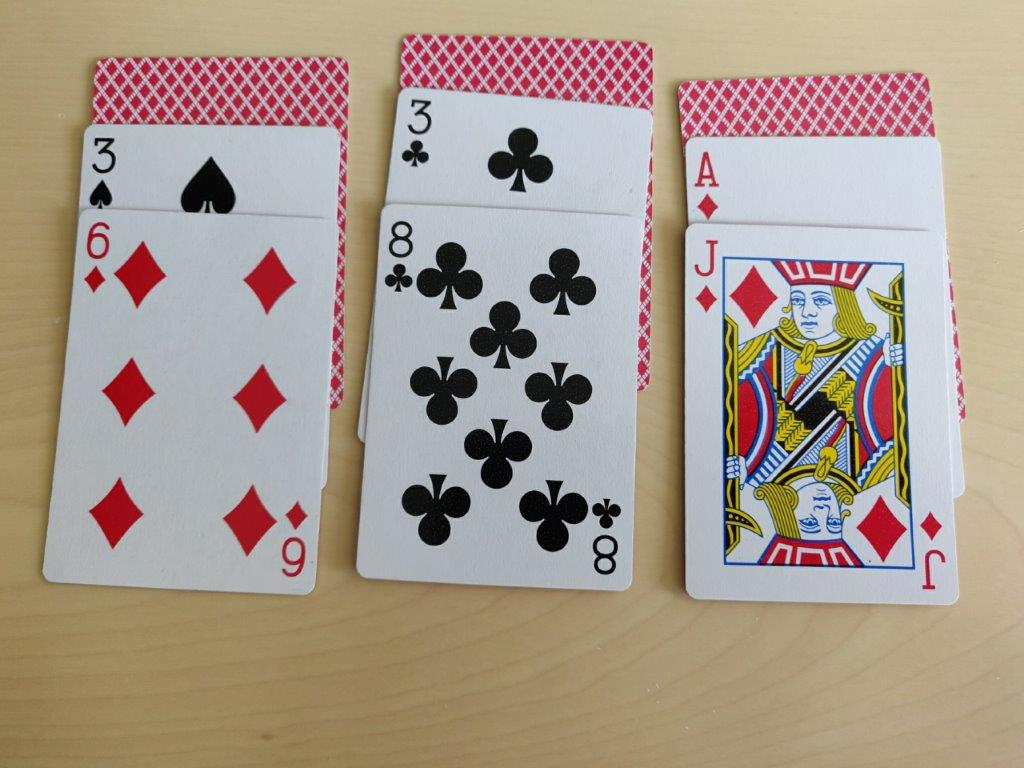3C: (399, 98, 434, 176)
3S: (86, 134, 123, 210)
6D: (78, 216, 115, 301)
8C: (379, 214, 416, 303)
AD: (688, 145, 723, 224)
BACK: (398, 29, 655, 103), (91, 53, 354, 123), (679, 67, 937, 138)
JD: (691, 234, 724, 317)
